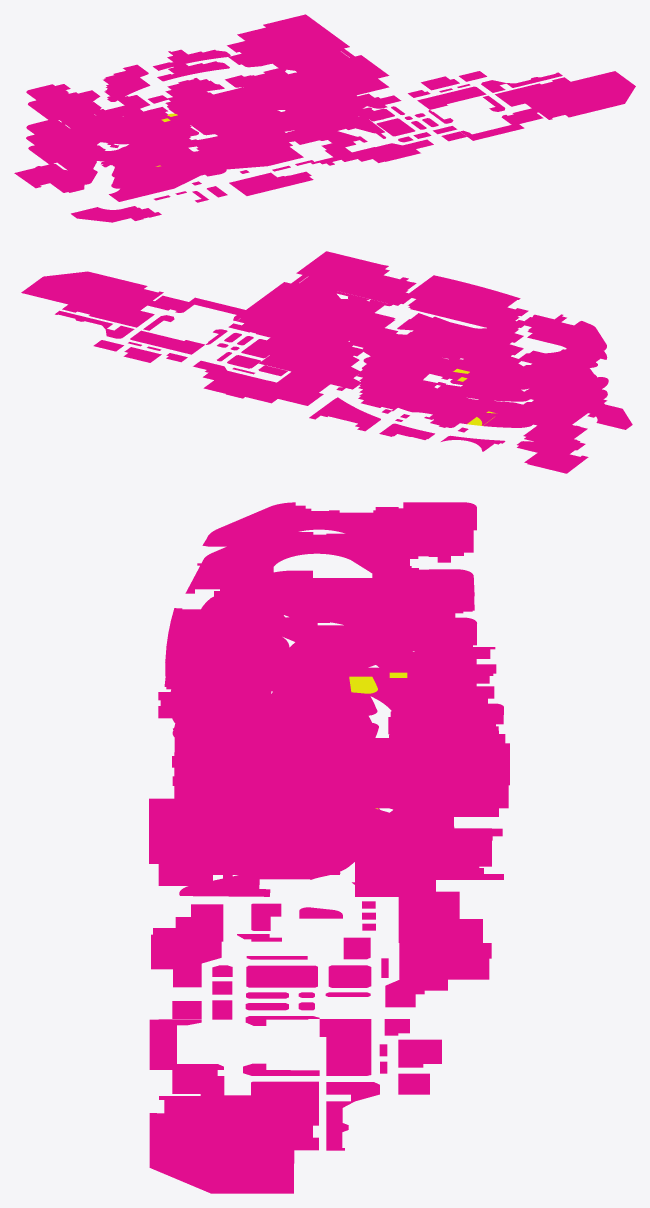
The model's file is stores4.gltf.
The picture shows the model from 3 angles, top to bottom: view 1: azimuth 30°, elevation 25°; view 2: azimuth 150°, elevation 25°; view 3: azimuth 270°, elevation 25°; orthographic projection. The views are drawn at different scales.
Parts seen in each view (by area): view 1: L5-11,L5-12,L6-12,L6-13,L6, L5-11,L5-12,L6-12,L6-13, object_83, object_80, L6-01,L6-02B, L3-02, L2-01/02/03, L6-16, L3-15A, B2-01/02, L3-26, L1-01/02/03 (+34 smaller); view 2: L5-11,L5-12,L6-12,L6-13,L6, L5-11,L5-12,L6-12,L6-13, object_83, object_80, D99|D100, L6-01,L6-02B, B2-01/02, L3-02, B2-12,B2-13,B2-14,B2-15, L1-01/02/03, L2-01/02/03, L1-13 (+31 smaller); view 3: L5-11,L5-12,L6-12,L6-13,L6, L5-11,L5-12,L6-12,L6-13, object_83, object_80, D99|D100, L6-01,L6-02B, L3-15A, B2-12,B2-13,B2-14,B2-15, L6-16, L2-01/02/03, L1-01/02/03, L6-15A (+28 smaller).
Boxes of the visible parts, box(x1,y1,x2,y2) form: L5-11,L5-12,L6-12,L6-13,L6: box(227, 14, 389, 91); L5-11,L5-12,L6-12,L6-13: box(228, 48, 389, 102); object_83: box(509, 77, 606, 119); object_80: box(571, 71, 635, 107); L6-01,L6-02B: box(26, 84, 100, 109); L3-02: box(26, 120, 90, 150); L2-01/02/03: box(26, 134, 99, 174); L6-16: box(207, 89, 262, 119); L3-15A: box(319, 94, 387, 118); B2-01/02: box(14, 164, 84, 192); L3-26: box(112, 145, 160, 167); L1-01/02/03: box(28, 145, 105, 184); L5-11,L5-12,L6-12,L6-13,L6: box(237, 251, 416, 332); L5-11,L5-12,L6-12,L6-13: box(237, 276, 410, 347); object_83: box(62, 276, 163, 323); object_80: box(21, 271, 106, 304); D99|D100: box(193, 360, 267, 398); L6-01,L6-02B: box(518, 353, 577, 384); B2-01/02: box(517, 440, 588, 473); L3-02: box(524, 387, 587, 420); B2-12,B2-13,B2-14,B2-15: box(245, 380, 323, 405); L1-01/02/03: box(508, 402, 605, 445); L2-01/02/03: box(519, 389, 607, 433); L1-13: box(277, 364, 343, 392); L5-11,L5-12,L6-12,L6-13,L6: box(173, 693, 509, 785); L5-11,L5-12,L6-12,L6-13: box(174, 718, 508, 808); object_83: box(149, 1095, 318, 1150); object_80: box(149, 1150, 294, 1193); D99|D100: box(385, 943, 491, 1007); L6-01,L6-02B: box(354, 502, 476, 552); L3-15A: box(178, 813, 339, 855); B2-12,B2-13,B2-14,B2-15: box(398, 891, 482, 942); L6-16: box(165, 608, 273, 659); L2-01/02/03: box(283, 596, 474, 643); L1-01/02/03: box(280, 617, 476, 673); L6-15A: box(165, 659, 273, 689).
Bounding box in the file's own units: 387531 × 52950 × 111713.
